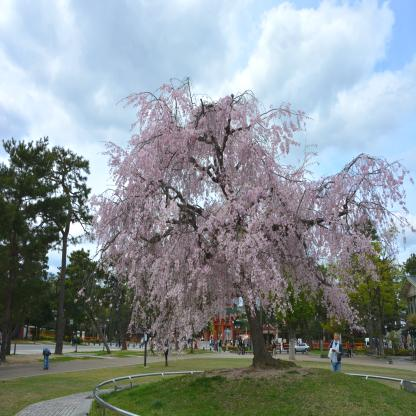ShidareZakura: (74, 76, 416, 359)
